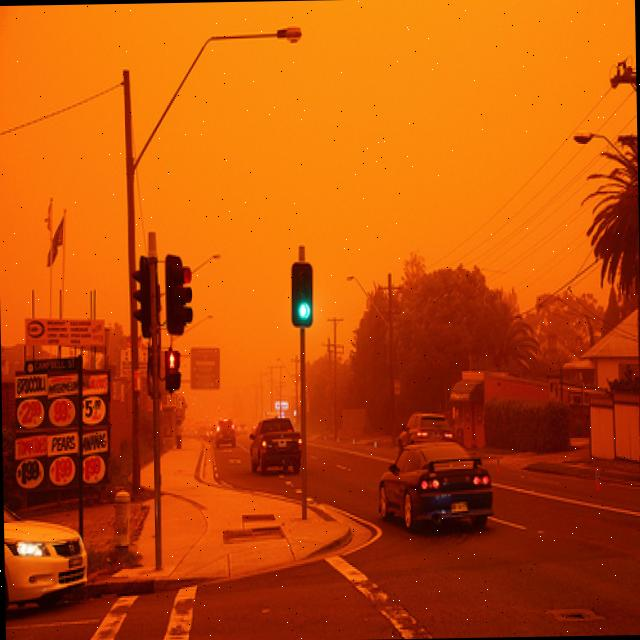car: (374, 437, 494, 533), (3, 504, 89, 610), (247, 416, 302, 474), (396, 408, 453, 441), (212, 412, 236, 448)
